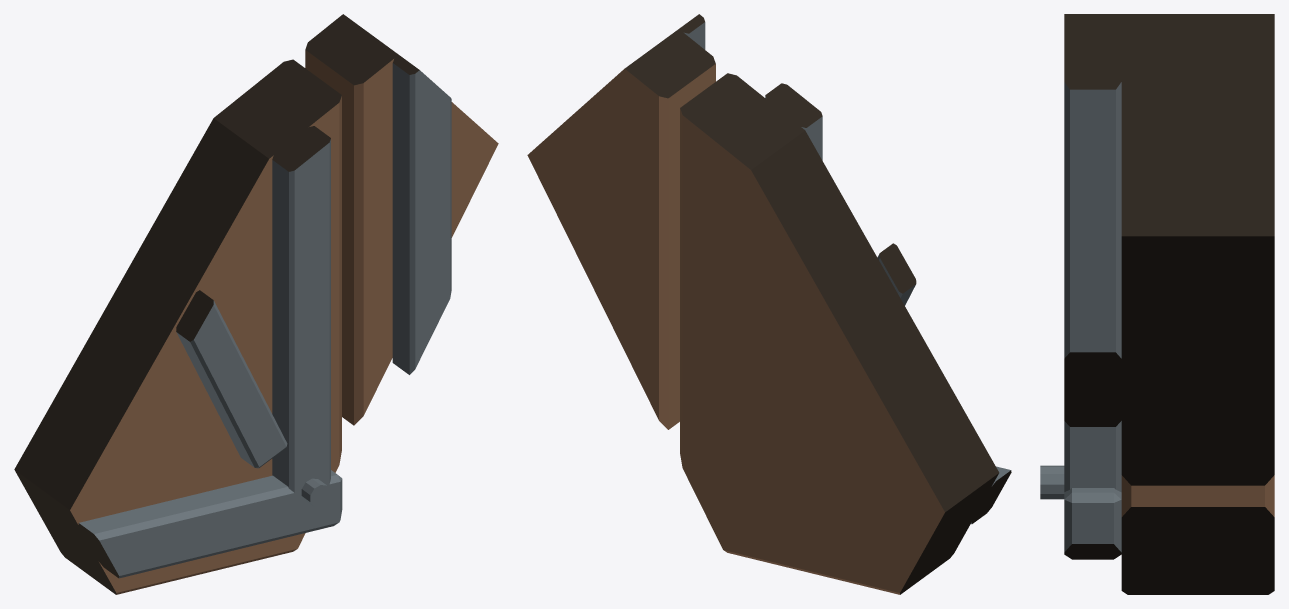
Rendered from SM_DoorShard_02_49.fbx.
The picture shows the model from 3 angles, left to right: view 1: azimuth 30°, elevation 25°; view 2: azimuth 150°, elevation 25°; view 3: azimuth 270°, elevation 25°; orthographic projection. The views are drawn at different scales.
Visible parts, largest first — view 1: SM_DoorShard_02_49; view 2: SM_DoorShard_02_49; view 3: SM_DoorShard_02_49.
Boxes of the visible parts, x1,y1,x2,y2 form: SM_DoorShard_02_49: [14, 14, 498, 594]; SM_DoorShard_02_49: [527, 14, 1011, 594]; SM_DoorShard_02_49: [1040, 14, 1274, 594].
Bounding box in the file's own units: 71.09 × 24.5 × 75.02.
